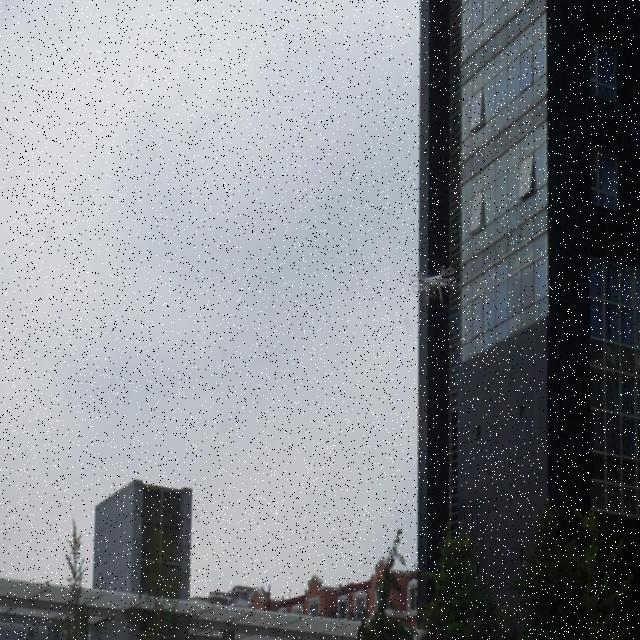UAV: (409, 267, 457, 307)
